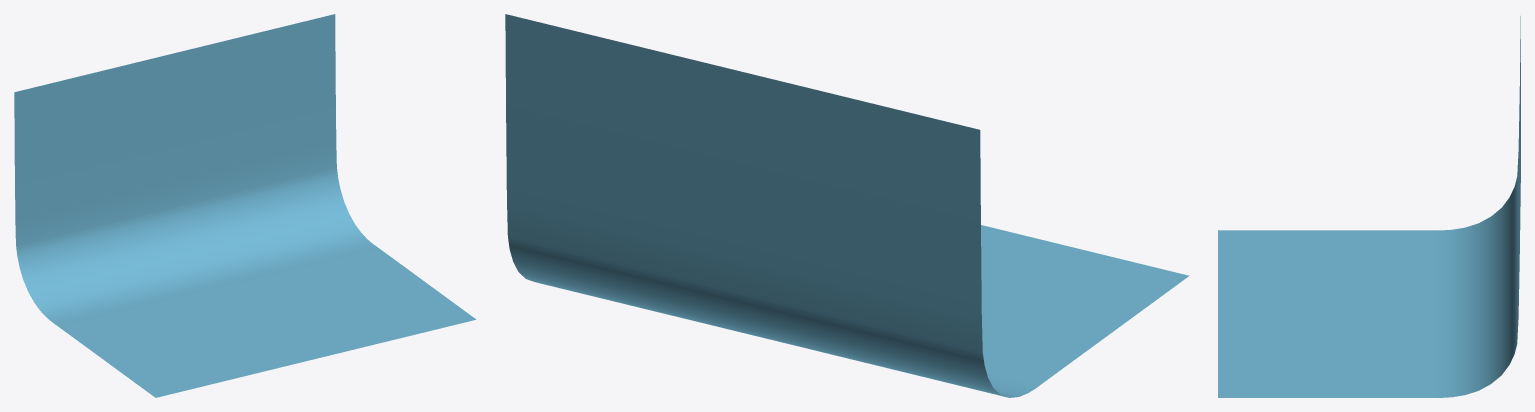
File: Ground.fbx
The picture shows the model from 3 angles, left to right: view 1: azimuth 30°, elevation 25°; view 2: azimuth 150°, elevation 25°; view 3: azimuth 270°, elevation 25°; orthographic projection. The views are drawn at different scales.
Parts seen in each view (by area): view 1: ground; view 2: ground; view 3: ground.
Part boxes in pixels (<box>): ground: <box>14,14,475,397</box>; ground: <box>505,14,1189,397</box>; ground: <box>1218,16,1520,397</box>.
Bounding box in the file's own units: 98.95 × 59.59 × 75.54.
